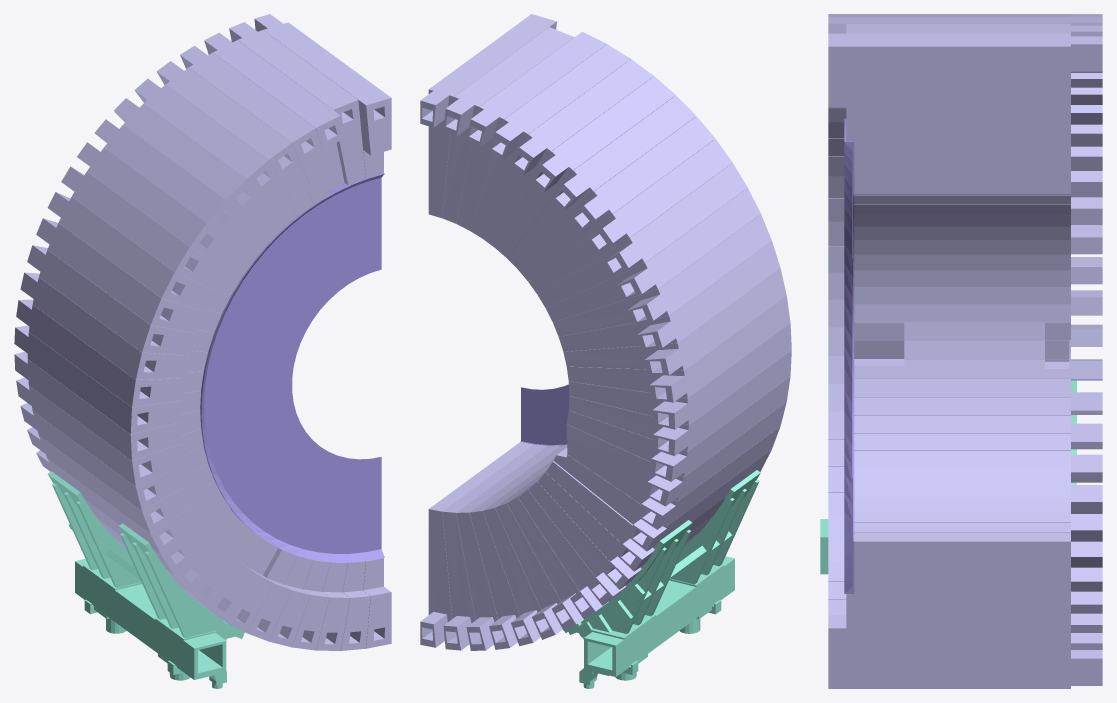
The model's file is Tile-End-Cap-SideC-cut2.glb.
3 renders of one model, left to right at view 1: azimuth 30°, elevation 25°; view 2: azimuth 150°, elevation 25°; view 3: azimuth 270°, elevation 25°, orthographic. The views are drawn at different scales.
Visible parts, largest first — view 1: null; view 2: null; view 3: null.
Boxes of the visible parts, x1=… form: null: x1=14, y1=14, x2=391, y2=688; null: x1=420, y1=14, x2=791, y2=688; null: x1=820, y1=14, x2=1102, y2=688.
Size of the model in its own units: 4.24 by 8.73 by 3.37.
